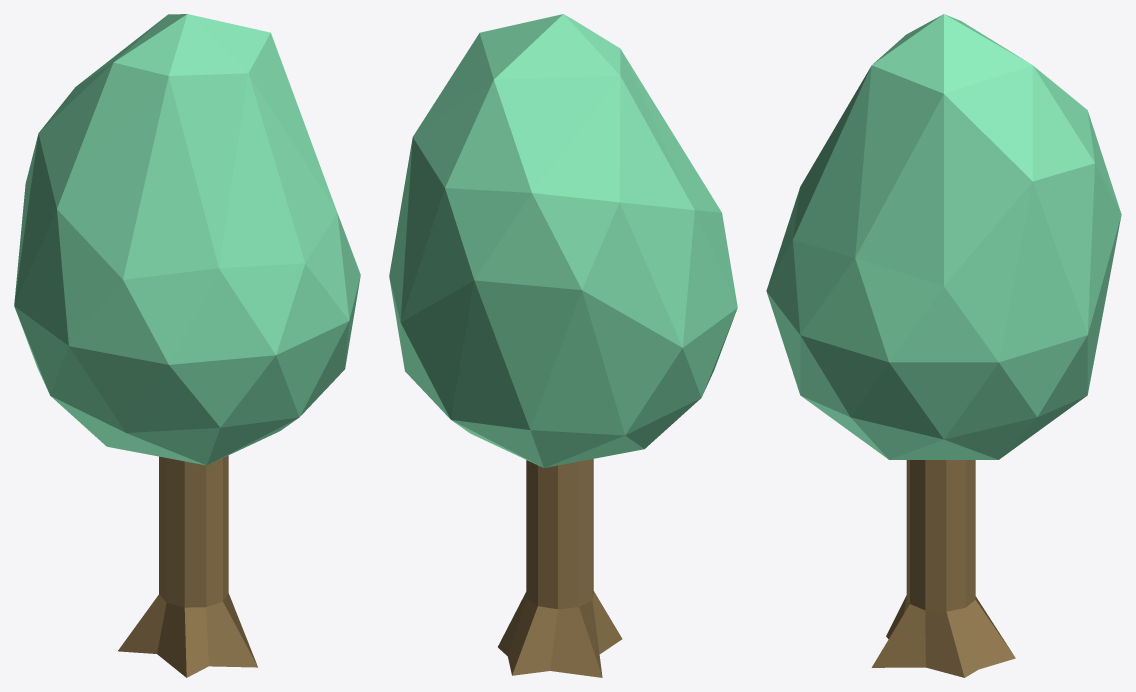
Rendered from circular-tree-2.fbx.
3 views of the same model, side by side, from view 1: azimuth 30°, elevation 25°; view 2: azimuth 150°, elevation 25°; view 3: azimuth 270°, elevation 25° (orthographic).
Visible parts, largest first — view 1: Icosphere.004; view 2: Icosphere.004; view 3: Icosphere.004.
Part boxes in pixels (left/top/right/bottom): Icosphere.004: left=14, top=14, right=360, bottom=677; Icosphere.004: left=389, top=14, right=737, bottom=677; Icosphere.004: left=766, top=14, right=1121, bottom=677.
Size of the model in its own units: 347 by 723 by 365.
